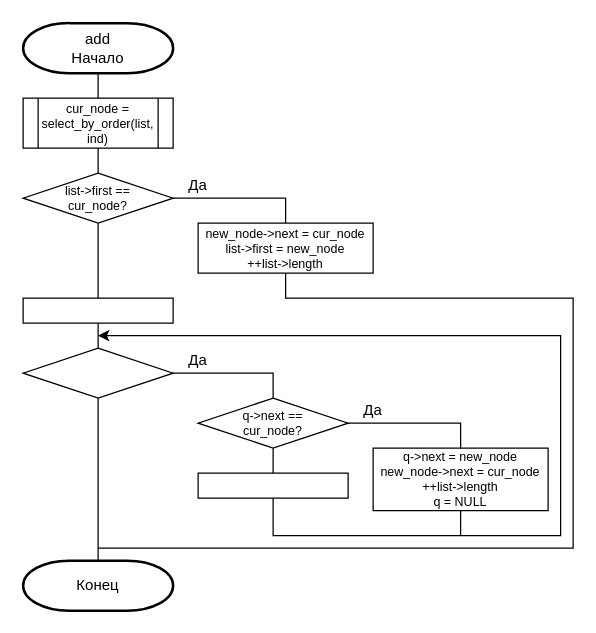
The diagram is 596 pixels wide and 633 high, and some of its shapes have lost their labels. Each missing label, with the box of its shape:
q = list->first: (22, 297, 173, 323)
q = q->next: (197, 472, 348, 498)
q существует?: (22, 347, 173, 398)
